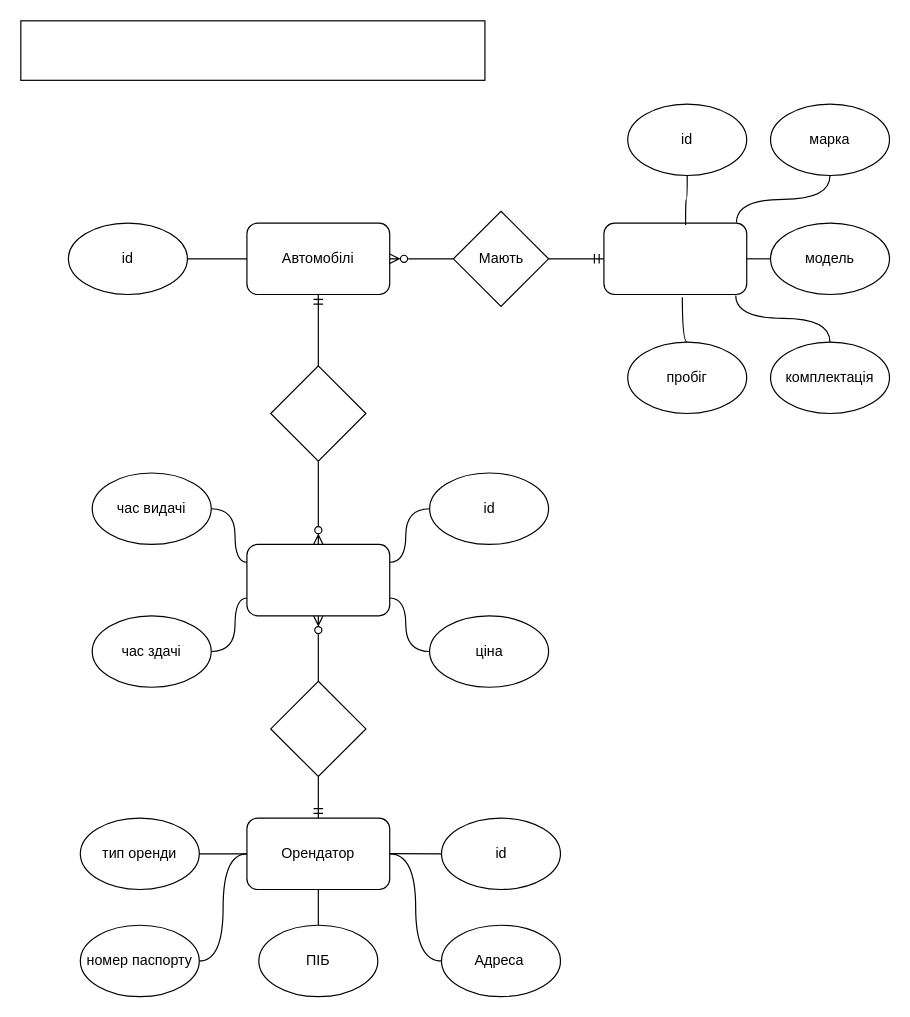
This 910x1017 diagram has some shape labels left out. Here are the shapes that lost their labels. From the top down, the centre of each, then its label:
At (x=252, y=50): "Концептуальна модель 'Прокат автомобілів'".
At (x=675, y=258): "Характеристики".
At (x=318, y=413): "Здають в".
At (x=318, y=579): "Оренда".
At (x=318, y=728): "Кому здають?".
